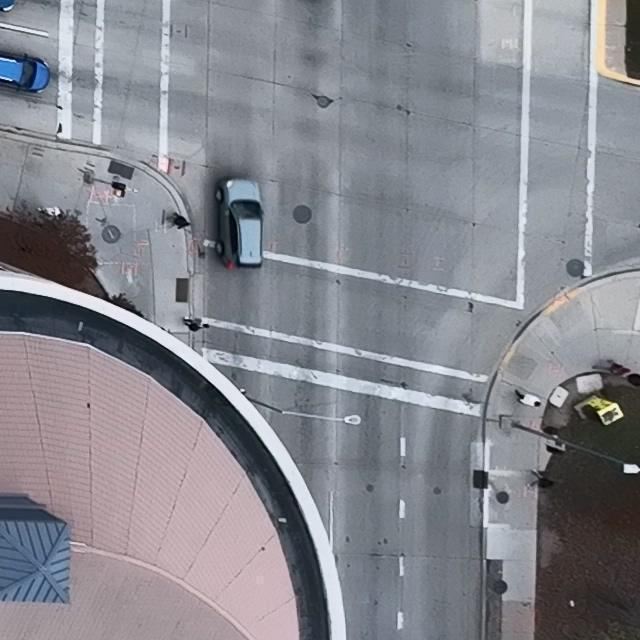car: (215, 179, 263, 269), (0, 52, 50, 92)
